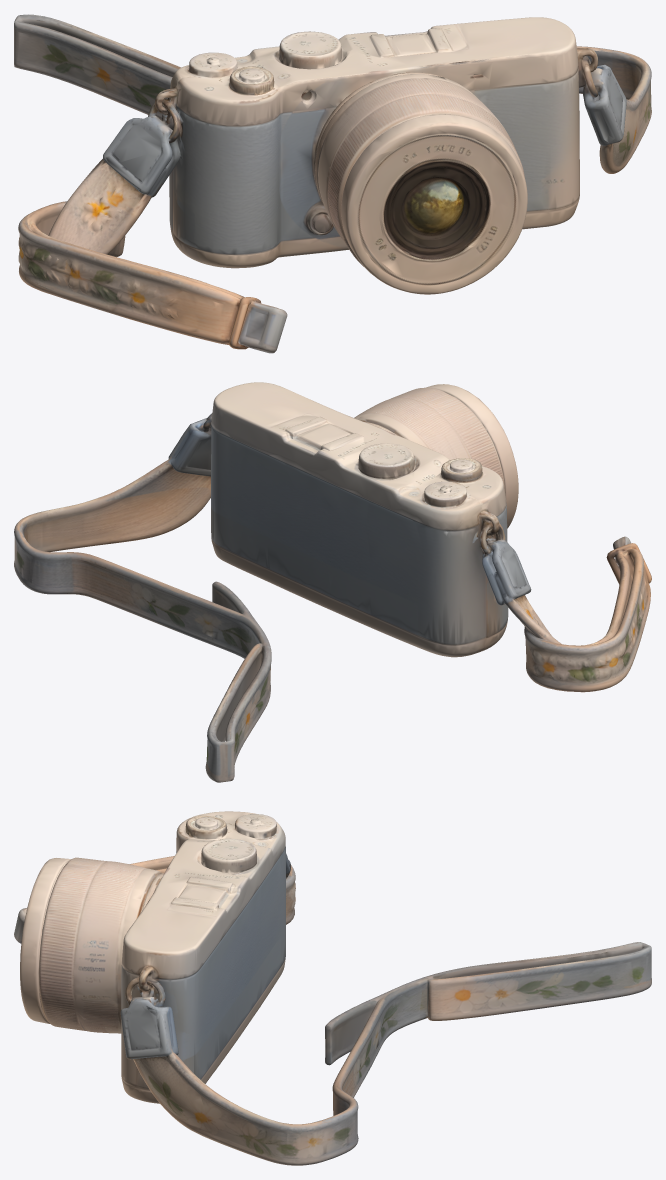
Rendered from camera_my.glb.
3 views of the same model, one above another, from view 1: azimuth 30°, elevation 25°; view 2: azimuth 150°, elevation 25°; view 3: azimuth 270°, elevation 25° (orthographic). The views are drawn at different scales.
Visible parts, largest first — view 1: node_0; view 2: node_0; view 3: node_0.
Part boxes in pixels (x1,y1,x2,y2): node_0: [14, 14, 651, 353]; node_0: [14, 382, 651, 782]; node_0: [14, 811, 651, 1165].
Size of the model in its own units: 1 by 0.2783 by 0.9748.
Materials: 1 (1 with a texture image).
